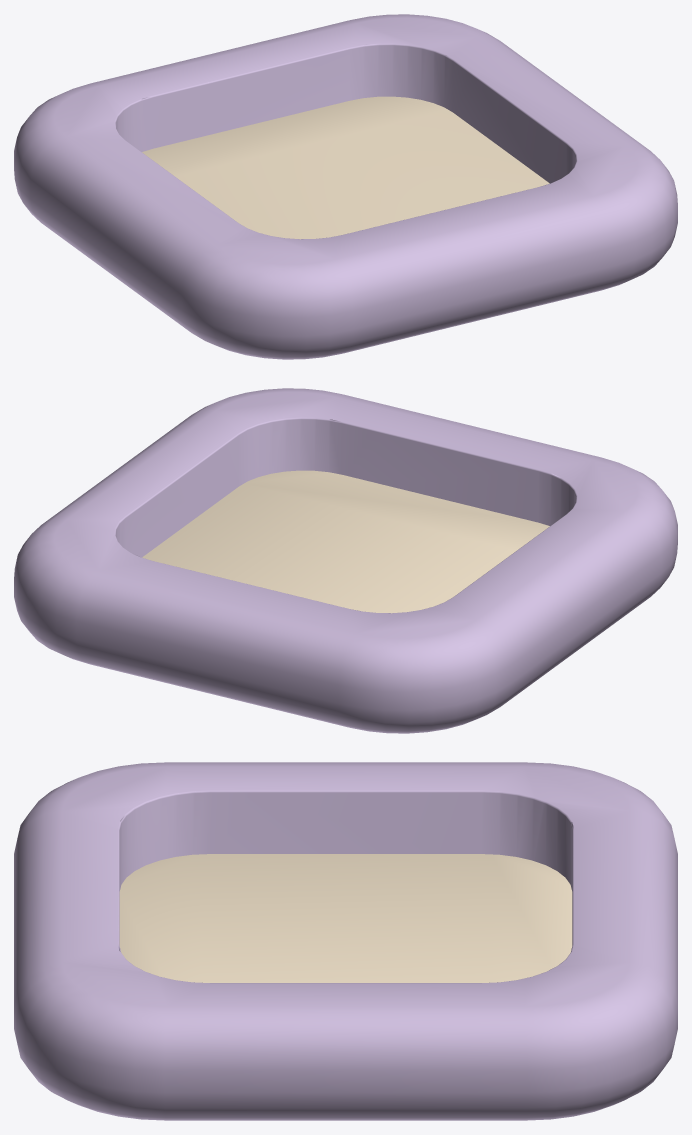
Rendered from plates_c.glb.
The picture shows the model from 3 angles, top to bottom: view 1: azimuth 30°, elevation 25°; view 2: azimuth 150°, elevation 25°; view 3: azimuth 270°, elevation 25°; orthographic projection. The views are drawn at different scales.
Visible parts, largest first — view 1: body; view 2: body; view 3: body.
Part boxes in pixels (x1,y1,x2,y2): body: (14, 14, 677, 359); body: (14, 388, 677, 733); body: (14, 762, 677, 1120).
Bounding box in the file's own units: 0.22 × 0.04 × 0.22.
